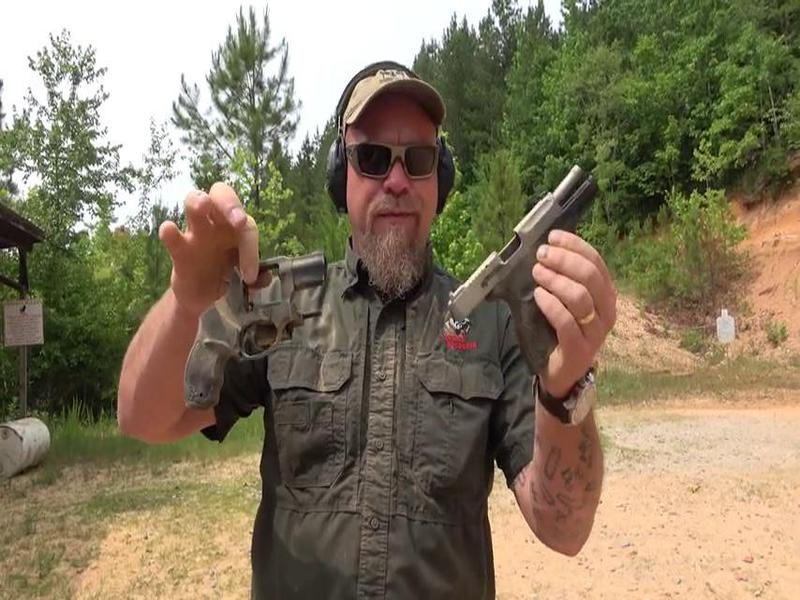Pistola: (444, 147, 649, 408)
Revolver: (150, 246, 327, 435)
